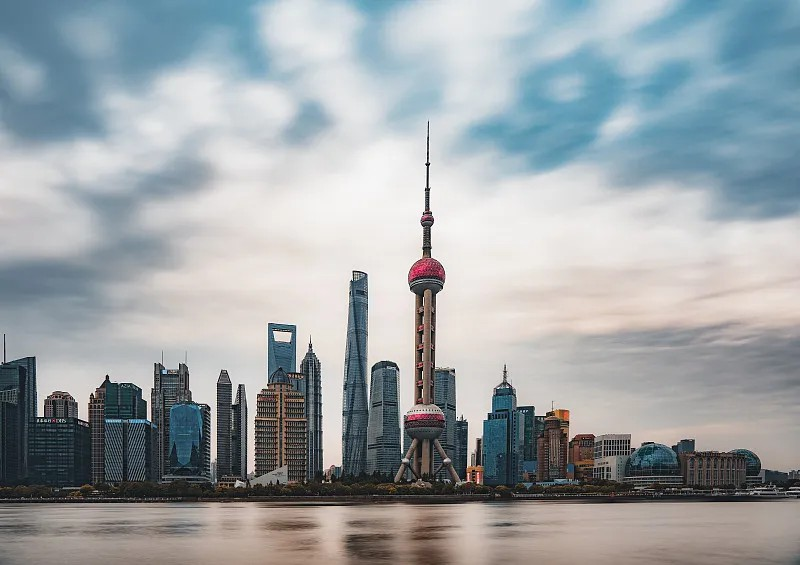Oriental: (393, 120, 460, 482)
